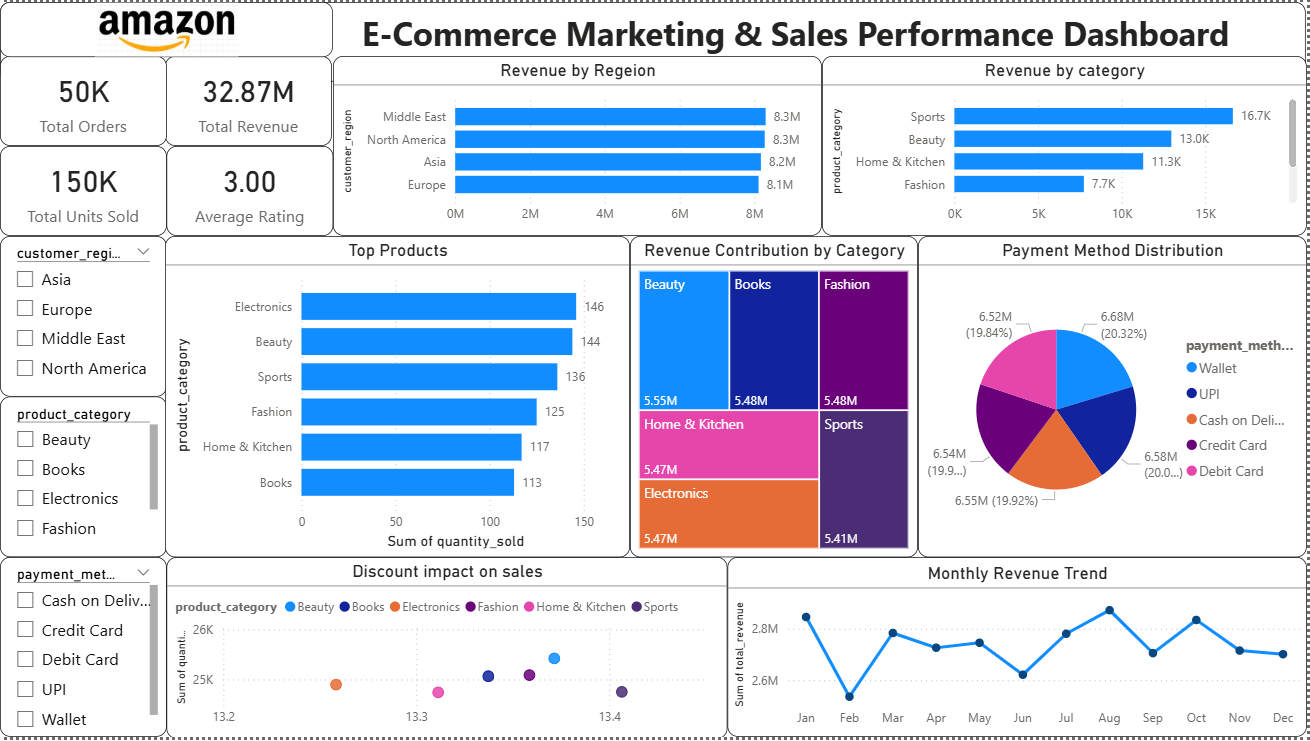

What the dashboard file says about the page in this screenshot:
{"tool":"powerbi","page":{"name":"Executive Dashboard","canvas":[1280,720],"ordinal":0},"visuals":[{"type":"textbox","box":[0,0,1278,54.4],"z":0},{"type":"card","fields":{"Values":["sales_data.Total Revenue"]},"box":[161.6,52.9,163.1,88.1],"z":1000},{"type":"card","fields":{"Values":["sales_data.Total Units Sold"]},"box":[0,141,163.1,88.1],"z":2000},{"type":"card","fields":{"Values":["sales_data.Average Rating"]},"box":[163.1,141,163.1,88.1],"z":3000},{"type":"card","fields":{"Values":["sales_data.Total Orders"]},"box":[0,52.9,163.1,88.1],"z":4000},{"type":"clusteredBarChart","title":"Revenue by category","fields":{"Y":["Sum(sales_data.total_revenue)"],"Category":["sales_data.product_category"]},"box":[805,52.9,474.5,176.3],"z":5000},{"type":"clusteredBarChart","title":"Revenue by Regeion","fields":{"Category":["sales_data.customer_region"],"Y":["Sum(sales_data.total_revenue)"]},"box":[326.1,52.9,478.9,176.3],"z":6000},{"type":"pieChart","title":"Payment Method Distribution","fields":{"Category":["sales_data.payment_method"],"Y":["Sum(sales_data.total_revenue)"]},"box":[899,229.2,380.5,314.4],"z":7000},{"type":"scatterChart","title":"Discount impact on sales","fields":{"X":["Avg(sales_data.discount_percent)"],"Y":["Sum(sales_data.quantity_sold)"],"Size":["Sum(sales_data.total_revenue)"],"Series":["sales_data.product_category"]},"box":[163.1,543.5,549.4,177.8],"z":8000},{"type":"slicer","fields":{"Values":["sales_data.product_category"]},"box":[0,386.4,163.1,157.2],"z":9000},{"type":"slicer","title":"Customer Region","fields":{"Values":["sales_data.customer_region"]},"box":[0,229.2,163.1,157.2],"z":10000},{"type":"slicer","fields":{"Values":["sales_data.payment_method"]},"box":[0,543.5,163.1,176.3],"z":11000},{"type":"clusteredBarChart","title":"Top Products","fields":{"Category":["sales_data.product_category"],"Y":["Sum(sales_data.quantity_sold)"]},"box":[163.1,229.2,453.9,314.4],"z":12000},{"type":"lineChart","title":"Monthly Revenue Trend","fields":{"Y":["Sum(sales_data.total_revenue)"],"Category":["sales_data.Month"]},"box":[712.5,543.5,567,176.3],"z":13000},{"type":"treemap","title":"Revenue Contribution by Category","fields":{"Group":["sales_data.product_category"],"Values":["Sum(sales_data.total_revenue)"]},"box":[617,229.2,282.1,314.4],"z":14000},{"type":"image","box":[0,0,326.2,53.7],"z":15000}]}

Visuals, with their boxes in screenshot pixels (x1, y1, x2, y2), scaled from the page's 1280x720 canvas onto the 1310x741 screenshot:
textbox: 0/0/1308/56
card - sales_data.Total Revenue: 165/54/332/145
card - sales_data.Total Units Sold: 0/145/167/236
card - sales_data.Average Rating: 167/145/334/236
card - sales_data.Total Orders: 0/54/167/145
"Revenue by category" clusteredBarChart: 824/54/1309/236
"Revenue by Regeion" clusteredBarChart: 334/54/824/236
"Payment Method Distribution" pieChart: 920/236/1309/559
"Discount impact on sales" scatterChart: 167/559/729/740
slicer - sales_data.product_category: 0/398/167/559
"Customer Region" slicer: 0/236/167/398
slicer - sales_data.payment_method: 0/559/167/740
"Top Products" clusteredBarChart: 167/236/631/559
"Monthly Revenue Trend" lineChart: 729/559/1309/740
"Revenue Contribution by Category" treemap: 631/236/920/559
image: 0/0/334/55
